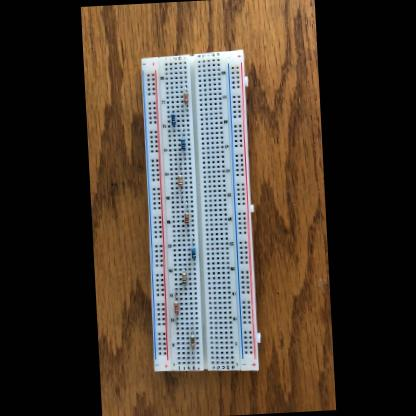breadboard: (138, 49, 262, 374)
resistor: (172, 301, 178, 313), (191, 247, 196, 259), (181, 272, 186, 284), (182, 92, 187, 104), (180, 138, 185, 150), (184, 212, 189, 224), (170, 114, 175, 125), (177, 176, 182, 187), (190, 335, 194, 347)
wire: (191, 236, 194, 247), (179, 159, 181, 174), (176, 314, 178, 328), (180, 188, 182, 202), (174, 289, 176, 301), (186, 224, 188, 235), (193, 259, 195, 269), (182, 150, 184, 160), (186, 201, 188, 211), (181, 129, 183, 138), (184, 286, 186, 290), (192, 326, 193, 334), (185, 103, 186, 110), (193, 348, 194, 354), (185, 86, 186, 92), (184, 268, 184, 272), (172, 110, 172, 113), (174, 126, 174, 132)
